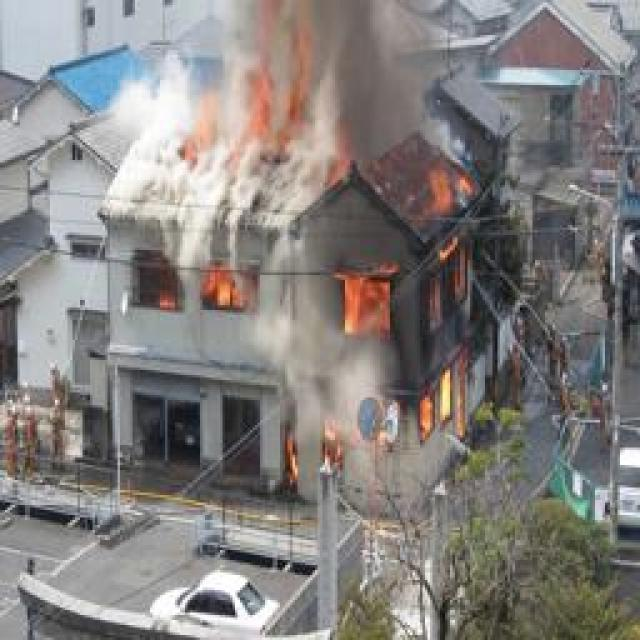Fire: (328, 152, 467, 475), (193, 36, 314, 153), (159, 263, 255, 321)
